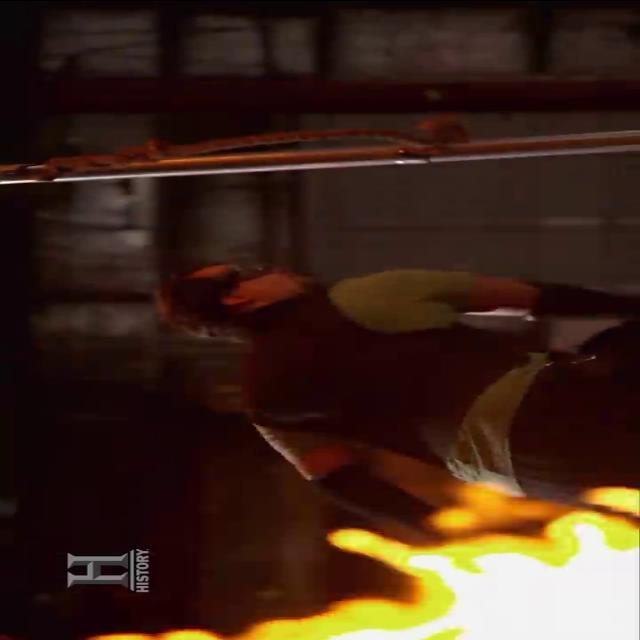Fire: (90, 481, 640, 639)
